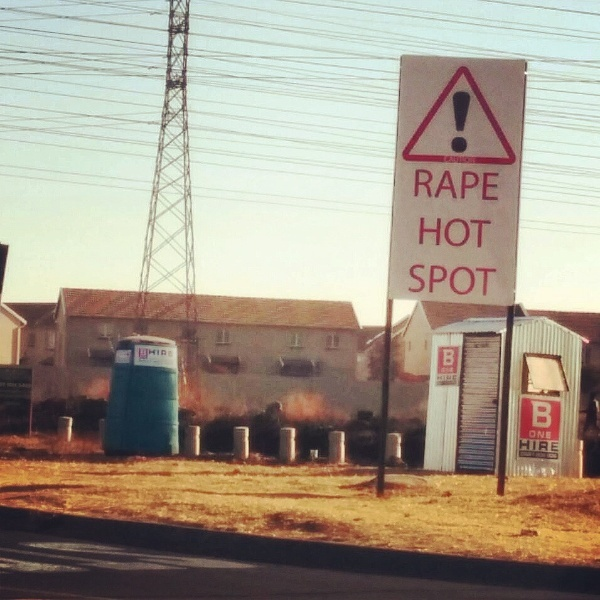text: (449, 85, 464, 157), (417, 167, 432, 203), (433, 167, 448, 203), (449, 167, 464, 203), (465, 167, 480, 203), (481, 167, 496, 203), (417, 263, 432, 297), (433, 263, 448, 297), (449, 263, 464, 297), (465, 263, 480, 297), (481, 263, 496, 297), (465, 85, 472, 157), (433, 216, 448, 249), (449, 216, 464, 249), (465, 216, 480, 249), (420, 216, 432, 249), (481, 216, 493, 249), (530, 401, 544, 429), (545, 401, 553, 429), (445, 85, 448, 157), (410, 263, 416, 297), (529, 439, 544, 452), (545, 439, 560, 452), (145, 347, 160, 359), (161, 347, 176, 359), (497, 167, 501, 203), (530, 430, 544, 440), (518, 439, 528, 452), (435, 373, 448, 383), (449, 348, 455, 367), (529, 452, 544, 459), (545, 452, 559, 459), (443, 348, 448, 367), (545, 430, 553, 440), (449, 373, 457, 383), (139, 347, 144, 359), (440, 366, 448, 373), (520, 452, 528, 459), (449, 366, 455, 373), (415, 167, 416, 203), (497, 263, 498, 297)
